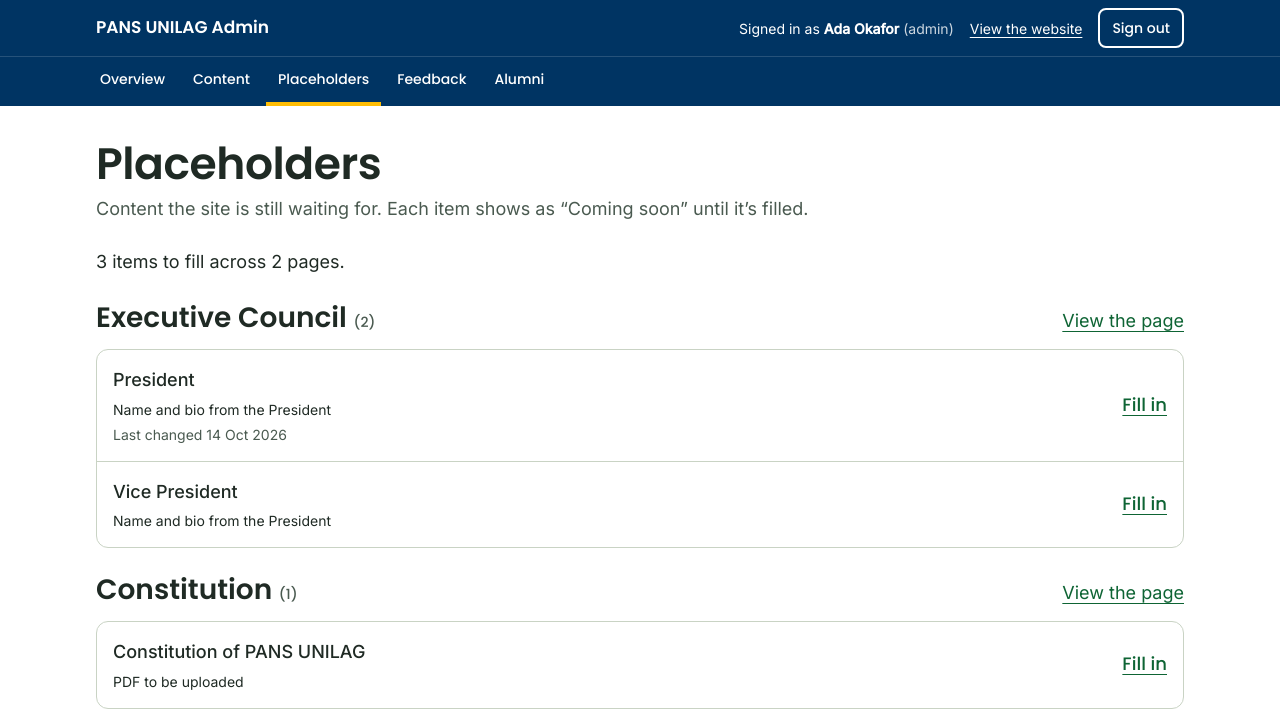
it: the dashboard › signs out and forgets the session
Expected: the text "3 items to fill across 2 pages." is shown, [96,251,345,272]
Step 1. Click the button "Sign out" → (1141, 28), box [1098,8,1184,48]
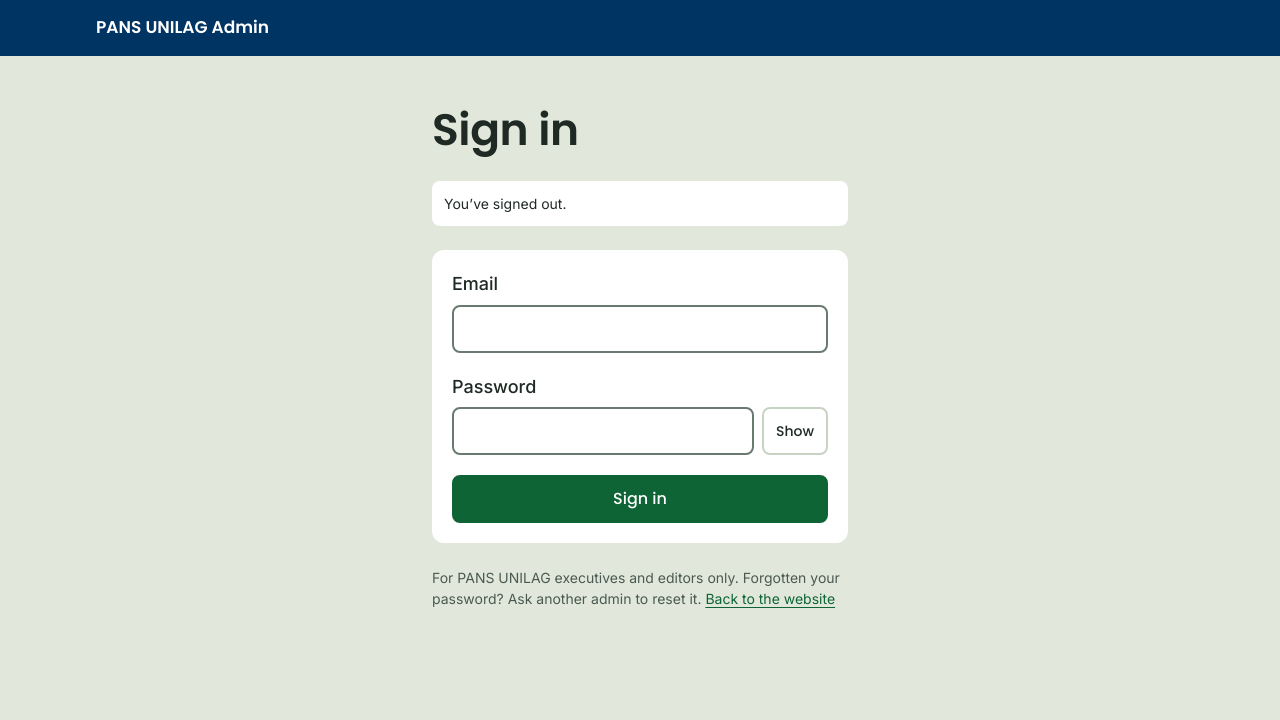
Now the text "You’ve signed out." is shown, box [432,181,848,226]
Now the heading "Executive Council (2)" is gone
